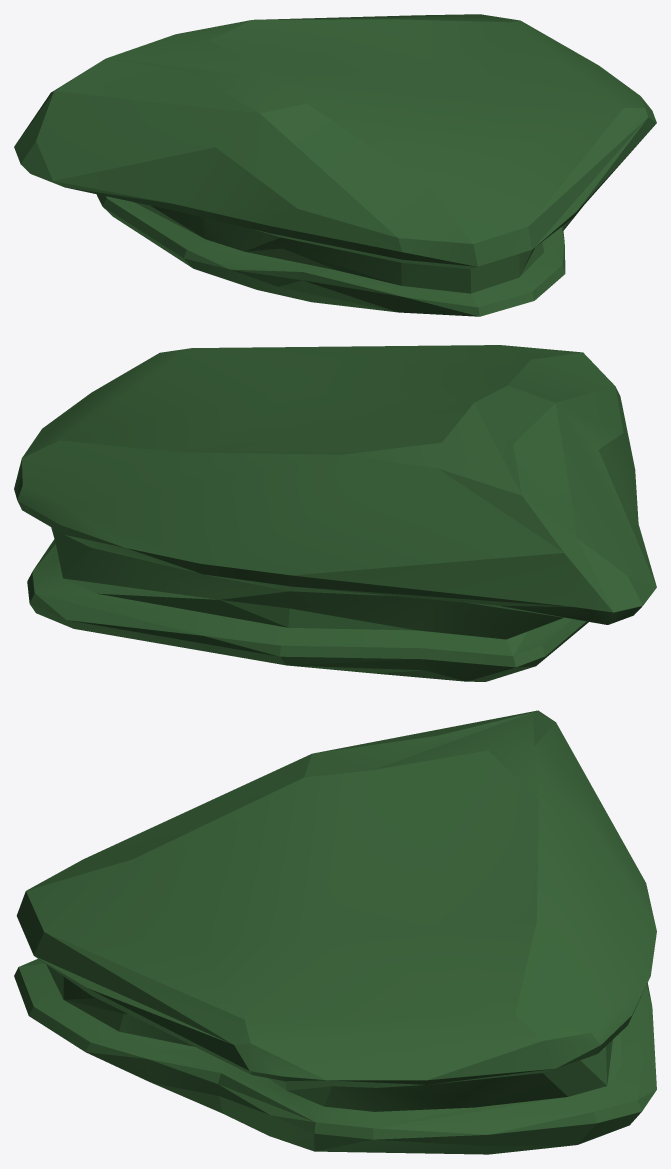
The model's file is M_PlateRock 1.fbx.
The picture shows the model from 3 angles, top to bottom: view 1: azimuth 30°, elevation 25°; view 2: azimuth 150°, elevation 25°; view 3: azimuth 270°, elevation 25°; orthographic projection. The views are drawn at different scales.
Parts seen in each view (by area): view 1: platerock; view 2: platerock; view 3: platerock.
Boxes of the visible parts, <box> form: platerock: <box>14,14,656,316</box>; platerock: <box>14,345,656,681</box>; platerock: <box>14,710,656,1154</box>.
Bounding box in the file's own units: 44.76 × 15.47 × 37.94.
